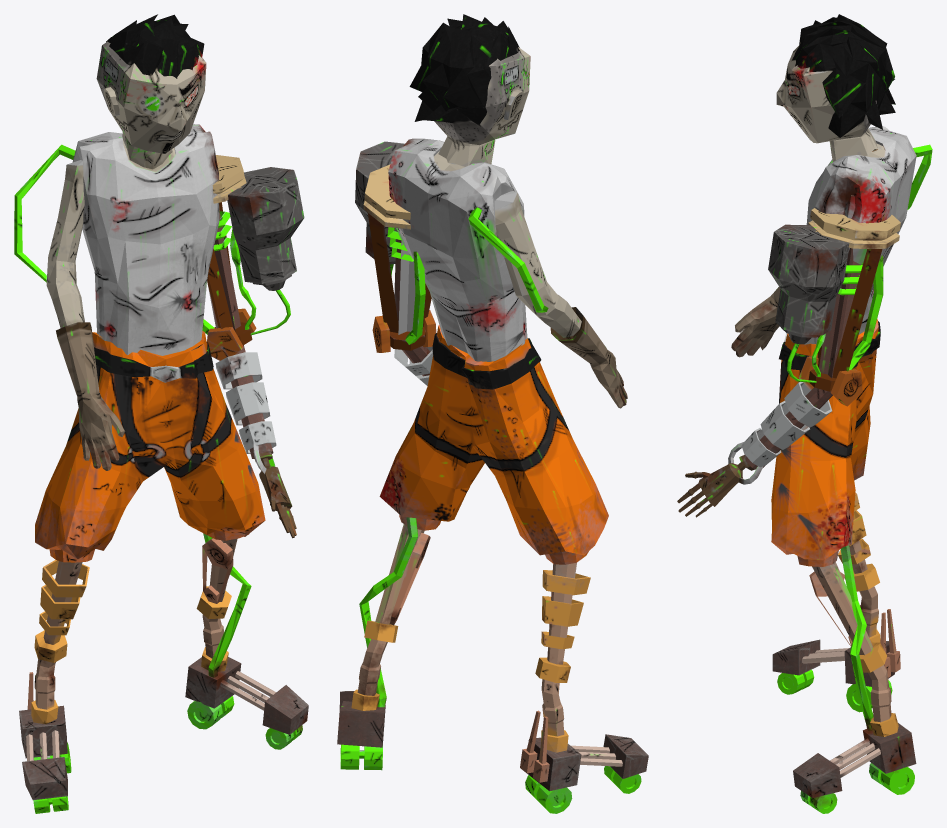
Rendered from CyborgFINALAnimation_000142.obj.
3 renders of one model, left to right at view 1: azimuth 30°, elevation 25°; view 2: azimuth 150°, elevation 25°; view 3: azimuth 270°, elevation 25°, orthographic. The views are drawn at different scales.
Parts seen in each view (by area): view 1: CyborgMesh_Cube.002; view 2: CyborgMesh_Cube.002; view 3: CyborgMesh_Cube.002.
Boxes of the visible parts, bbox=[...] form: CyborgMesh_Cube.002: bbox=[14, 14, 308, 813]; CyborgMesh_Cube.002: bbox=[337, 14, 648, 813]; CyborgMesh_Cube.002: bbox=[677, 14, 932, 813].
Bounding box in the file's own units: 3.89 × 9.62 × 3.04.
